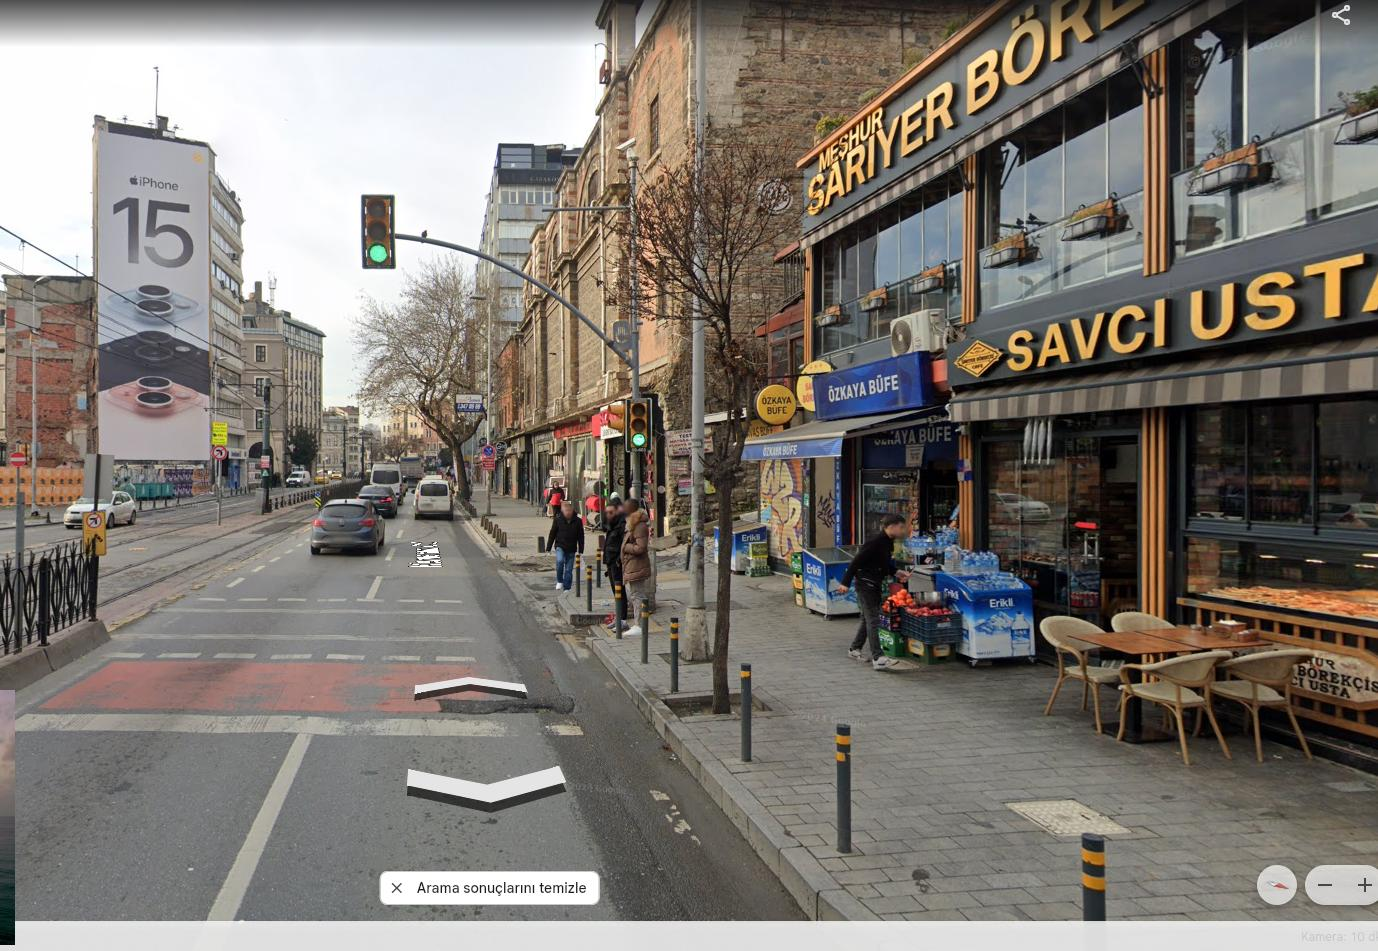greenlight: (360, 193, 395, 269), (626, 398, 652, 448)
